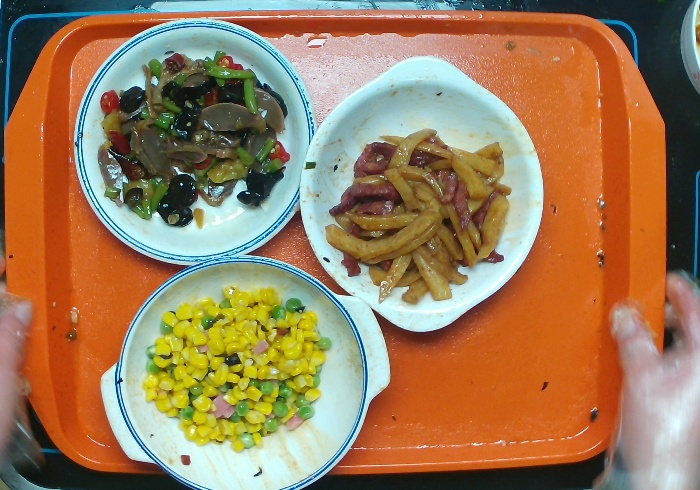HZYJPL-Dai_Er_Bai_Yuan_Wan: (300, 55, 544, 338)
HZYJPL-Lan_Bian_Dai_Er_Wan: (96, 252, 390, 490)
HZYJPL-Lan_Bian_Yuan_Die: (68, 16, 317, 269)
